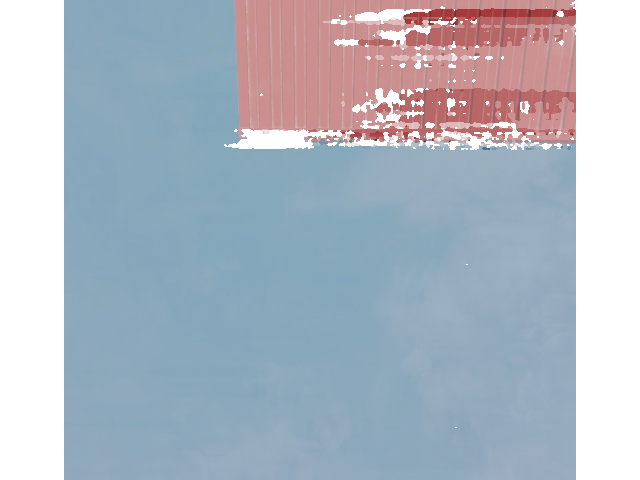container5: (236, 0, 640, 145)
